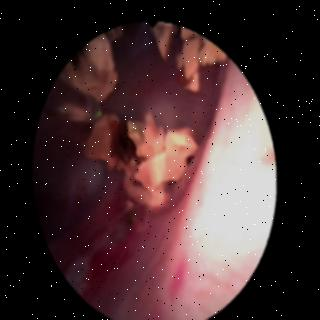stone: (82, 110, 196, 208), (149, 21, 224, 87), (60, 26, 120, 98), (55, 102, 92, 120)
tissue: (35, 24, 239, 320)
